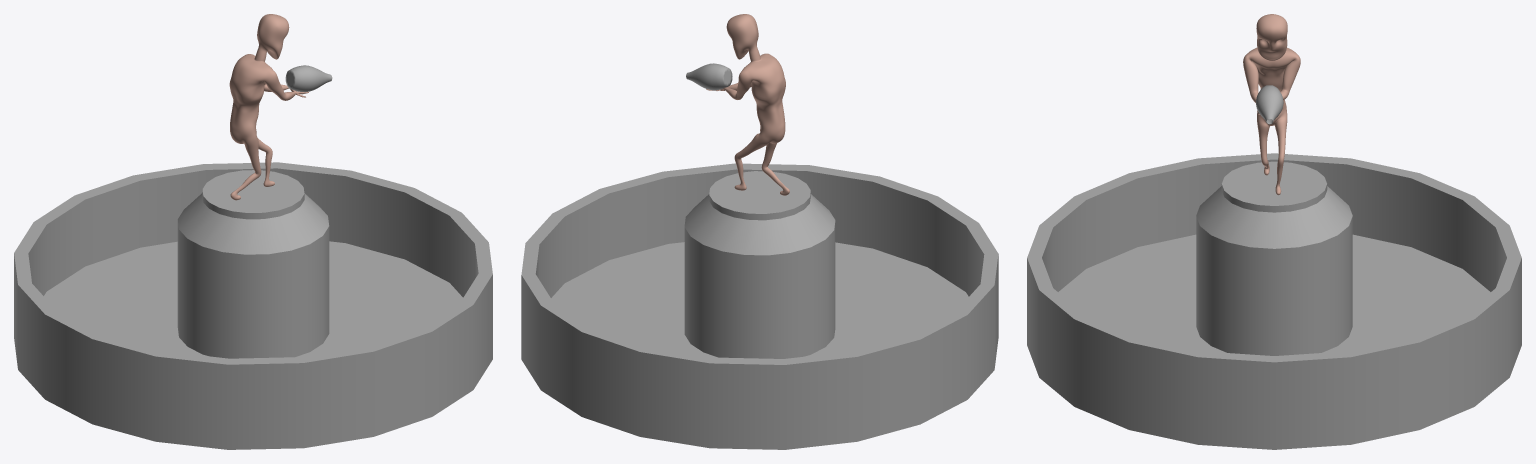
Rendered from Fonte.fbx.
3 views of the same model, side by side, from view 1: azimuth 30°, elevation 25°; view 2: azimuth 150°, elevation 25°; view 3: azimuth 270°, elevation 25° (orthographic). The views are drawn at different scales.
Visible parts, largest first — view 1: polySurface3420; view 2: polySurface3420; view 3: polySurface3420.
Boxes of the visible parts, left/top/right/bottom form: polySurface3420: left=14, top=14, right=492, bottom=449; polySurface3420: left=521, top=14, right=998, bottom=449; polySurface3420: left=1027, top=14, right=1521, bottom=449.
Bounding box in the file's own units: 41.09 × 31.05 × 41.09.
